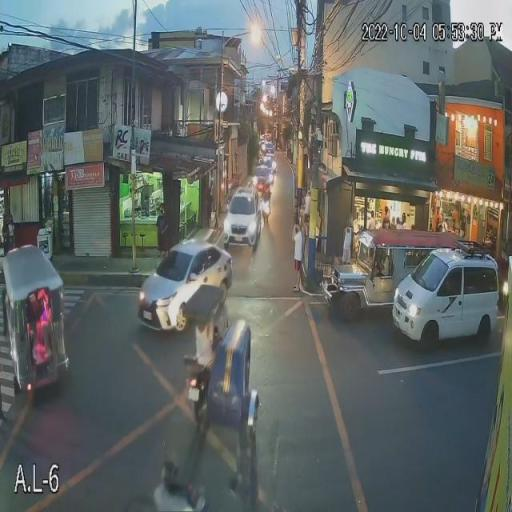helmet: (158, 458, 183, 492)
rider: (157, 459, 188, 512)
